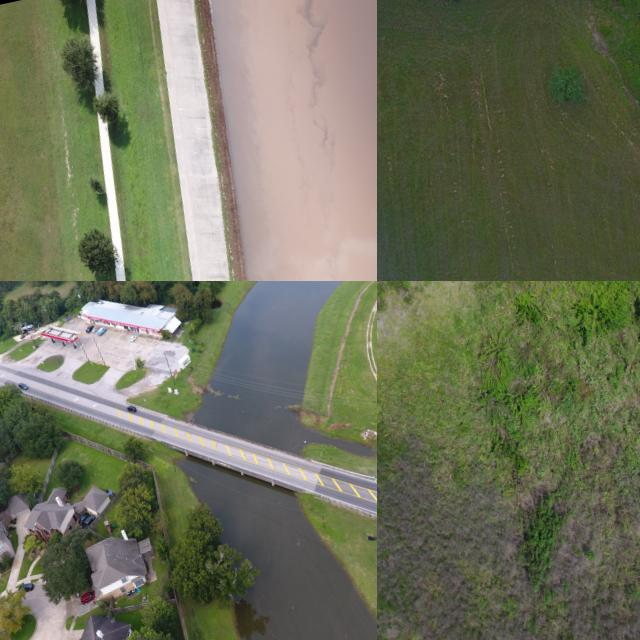fire: (210, 0, 377, 281), (180, 457, 377, 640), (193, 281, 374, 454)
